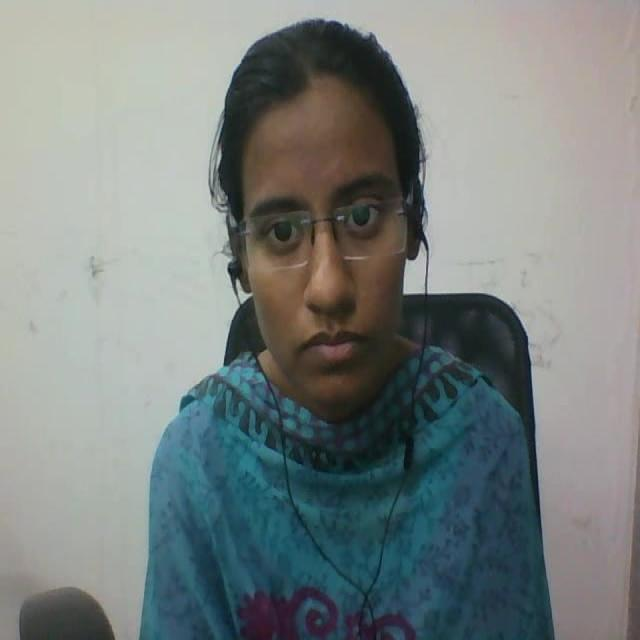Engaged: (212, 9, 436, 406)
